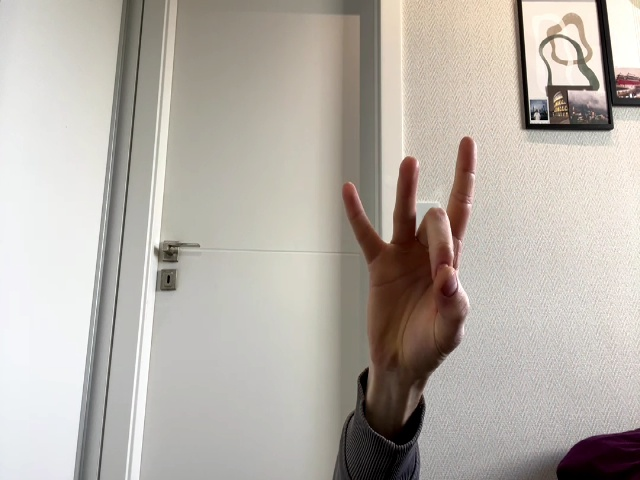G: (344, 136, 478, 375)
